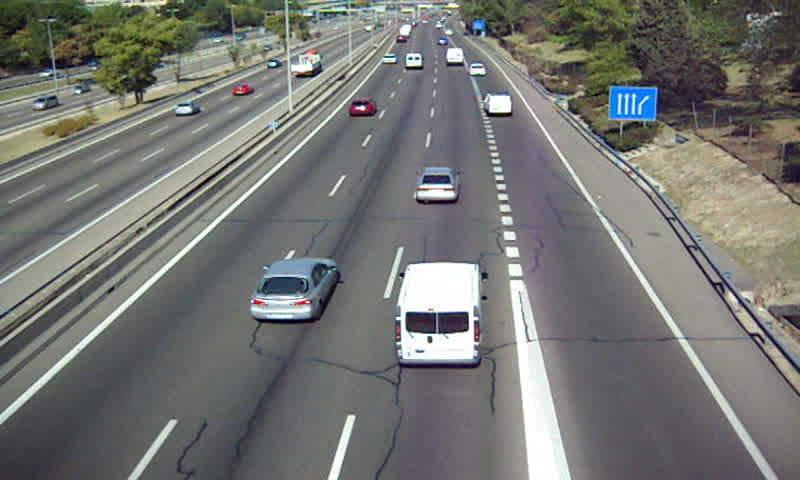car: (250, 256, 337, 321), (416, 167, 461, 202), (348, 99, 377, 116), (469, 62, 488, 77), (381, 52, 398, 64)
van: (397, 262, 482, 367), (483, 92, 512, 116), (445, 47, 464, 66), (404, 52, 422, 70)
